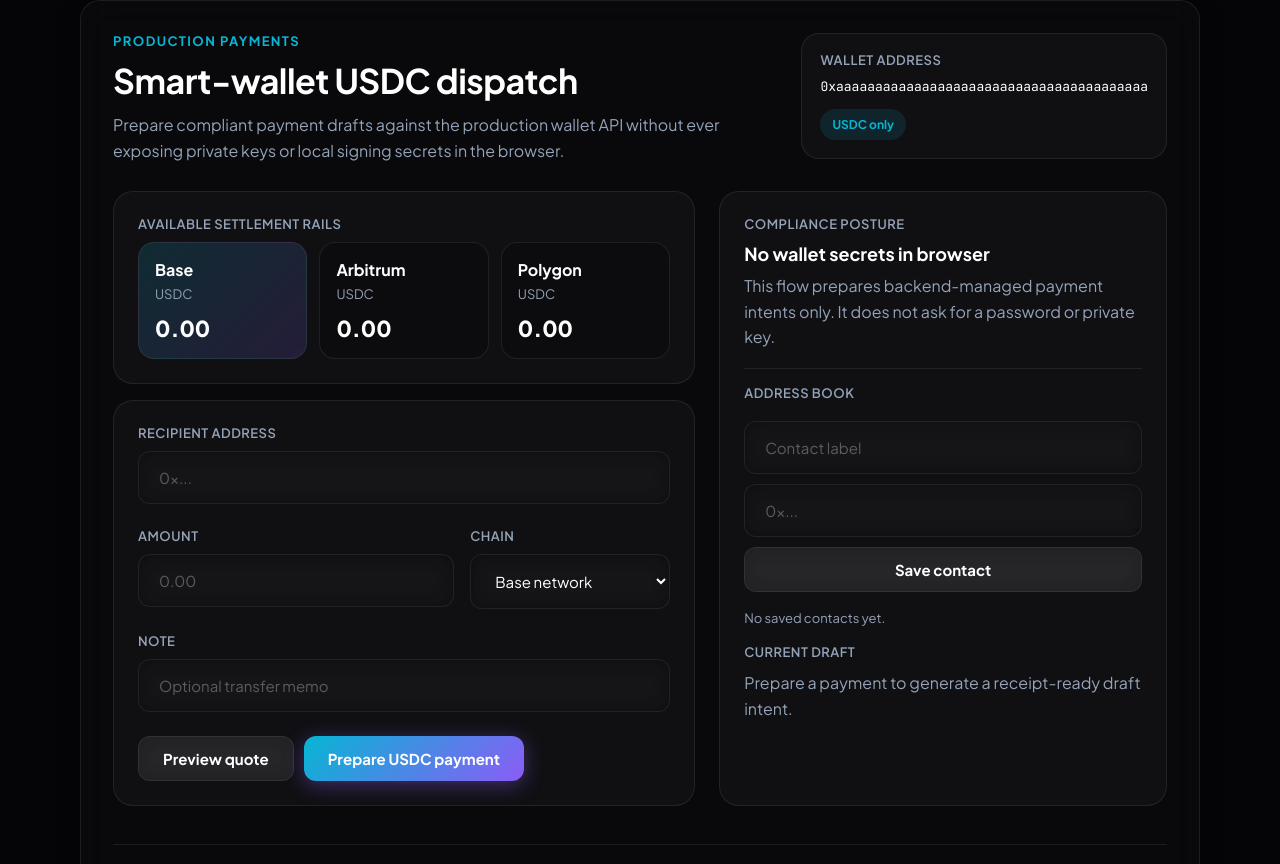
ProductionWalletApp › creates a payment intent and shows a receipt-ready draft
This screenshot has width=1280, height=864.
Type "0xbbbbbbbbbbbbbbbbbbbbbbbbbbbbbbbbbbbbbbbb" into the field labelled "Recipient address" at [404, 478], box [138,451,670,504]
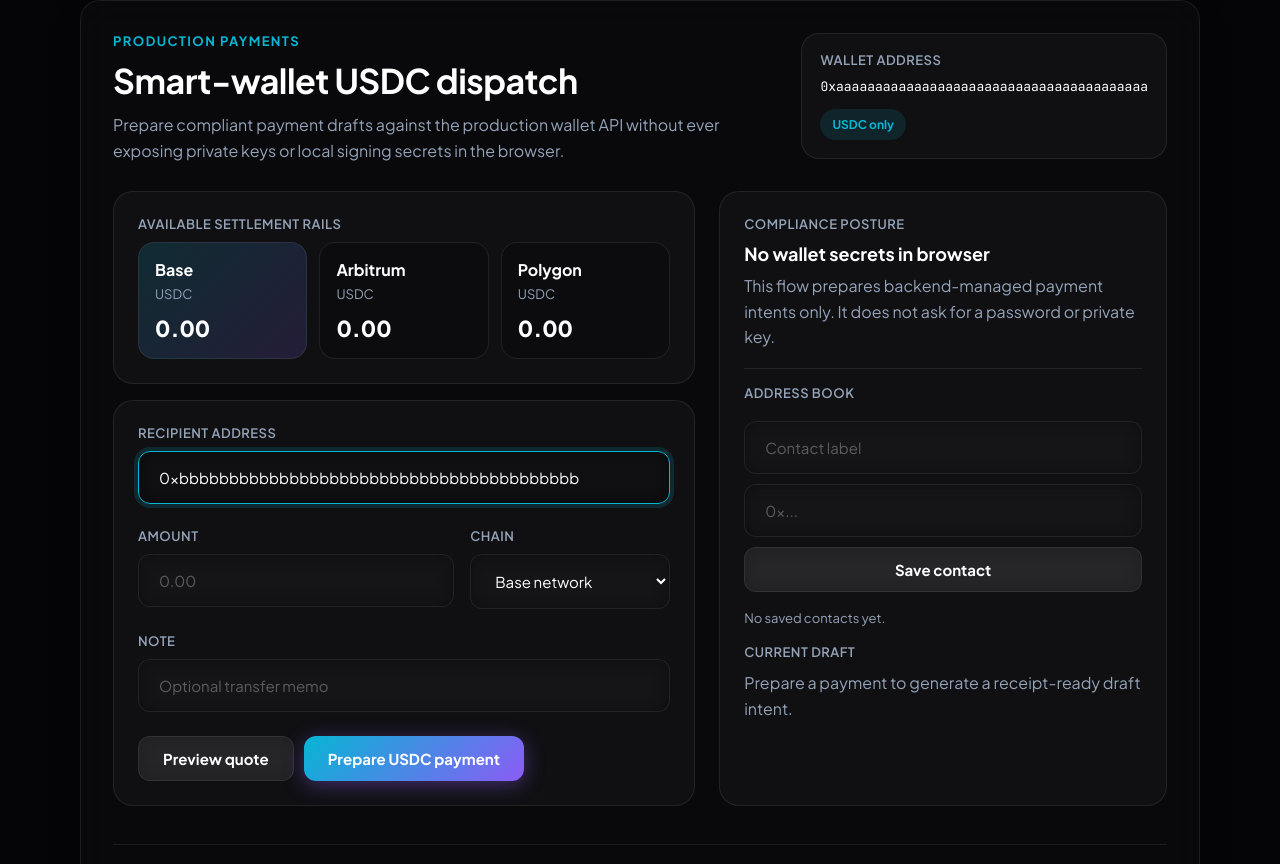
Type "12.50" into the field labelled "Amount" at [296, 581], box [138,554,454,607]
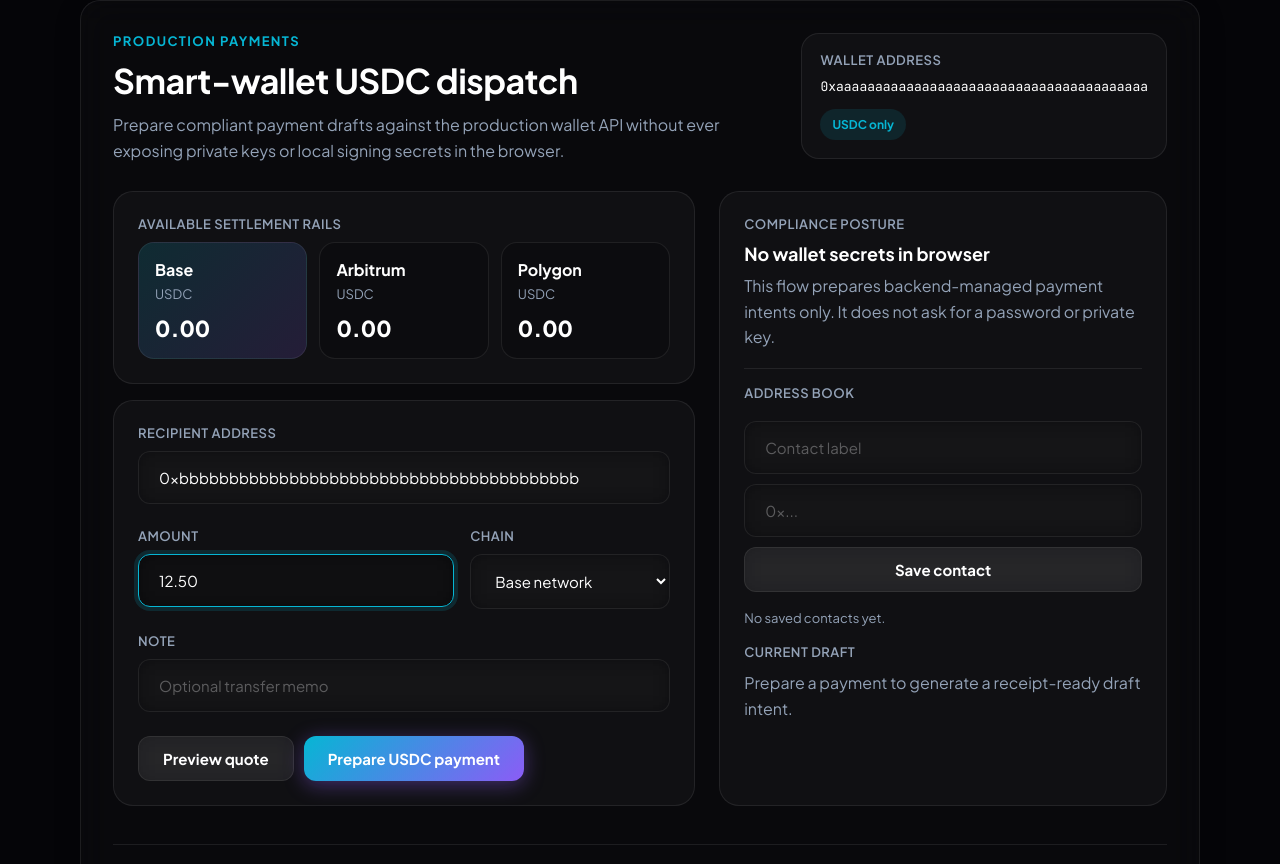
Type "Dinner" into the field labelled "Note" at [404, 686], box [138,659,670,712]
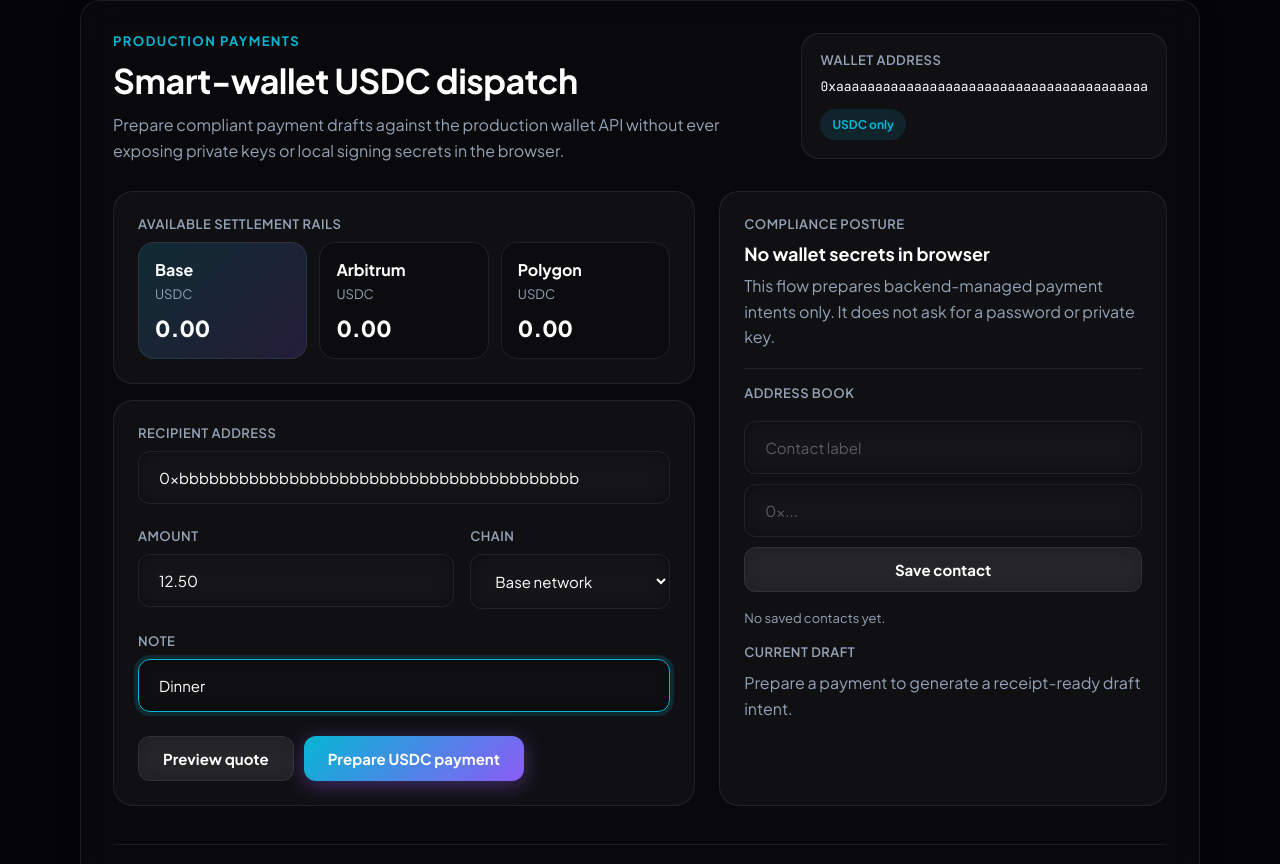
Click the button "Prepare USDC payment" at [414, 759], box [304,736,524,781]
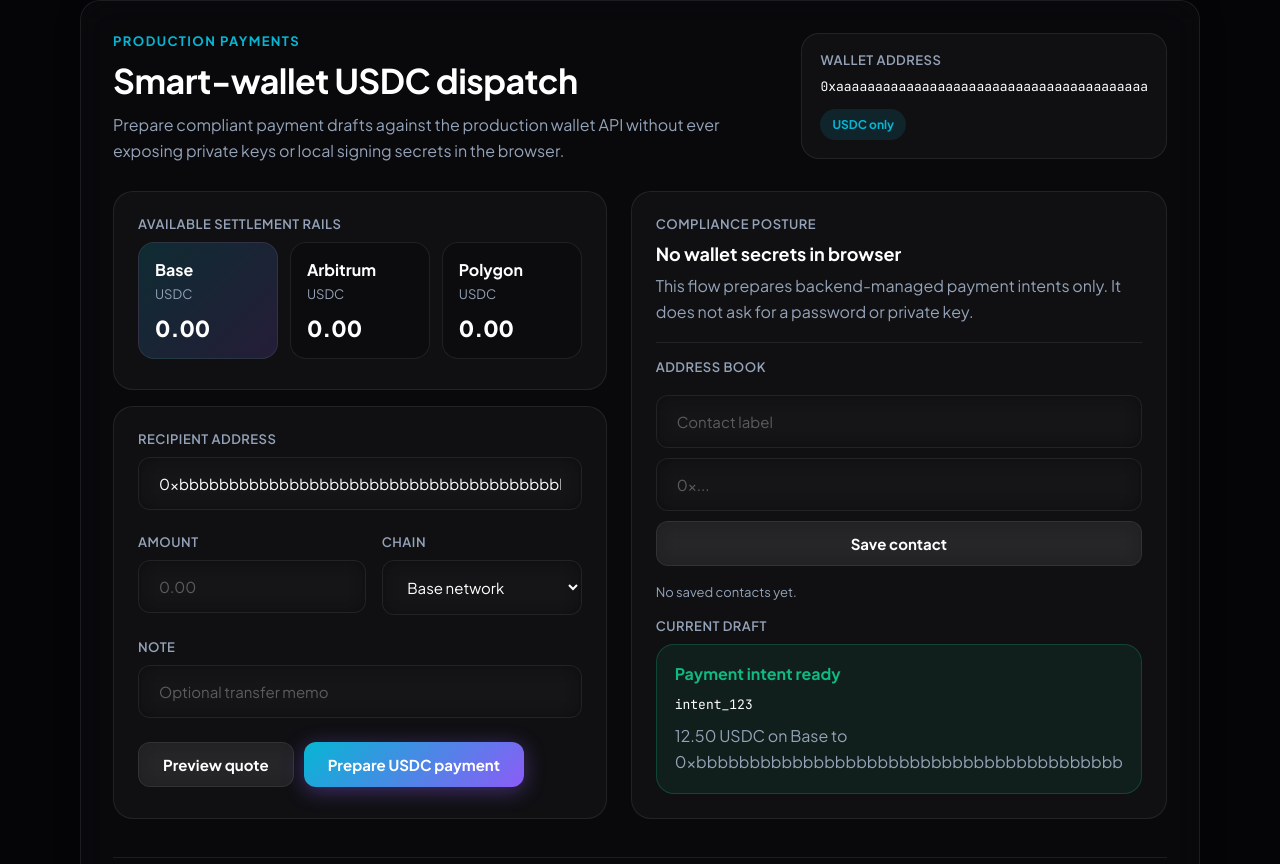
Now the text "Payment intent ready" is shown, box [675,663,841,684]
Now the text "intent_123" is shown, box [675,696,753,713]
